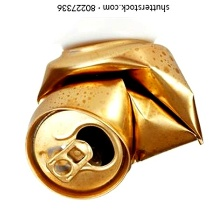can: (22, 37, 207, 203)
